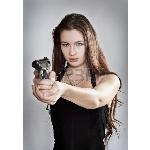Pistol: (30, 56, 50, 80)
